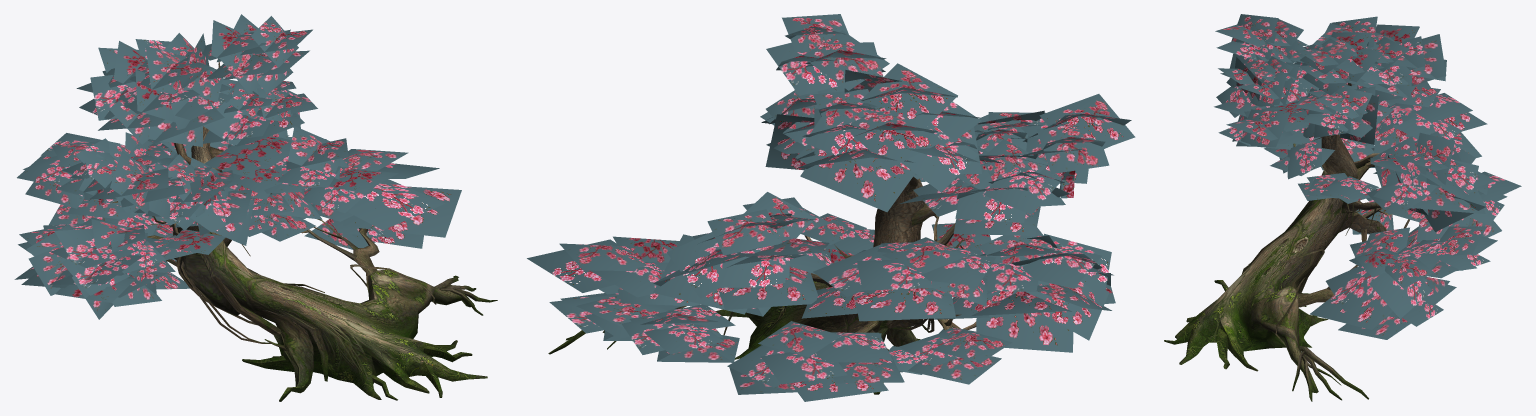
File: Plant_3002_dataoshu01.FBX
3 views of the same model, side by side, from view 1: azimuth 30°, elevation 25°; view 2: azimuth 150°, elevation 25°; view 3: azimuth 270°, elevation 25° (orthographic). The views are drawn at different scales.
Parts seen in each view (by area): view 1: Plant_3002_dataoshu01; view 2: Plant_3002_dataoshu01; view 3: Plant_3002_dataoshu01.
Part boxes in pixels (x1=…): Plant_3002_dataoshu01: x1=14, y1=14, x2=497, y2=401; Plant_3002_dataoshu01: x1=527, y1=14, x2=1135, y2=401; Plant_3002_dataoshu01: x1=1164, y1=14, x2=1521, y2=401.
Size of the model in its own units: 11609 by 7716 by 9326.
